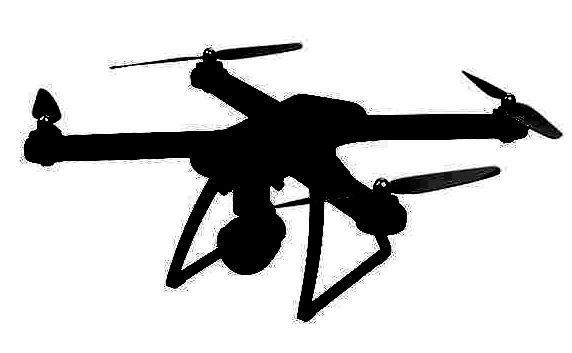Drone: (17, 38, 563, 327)
